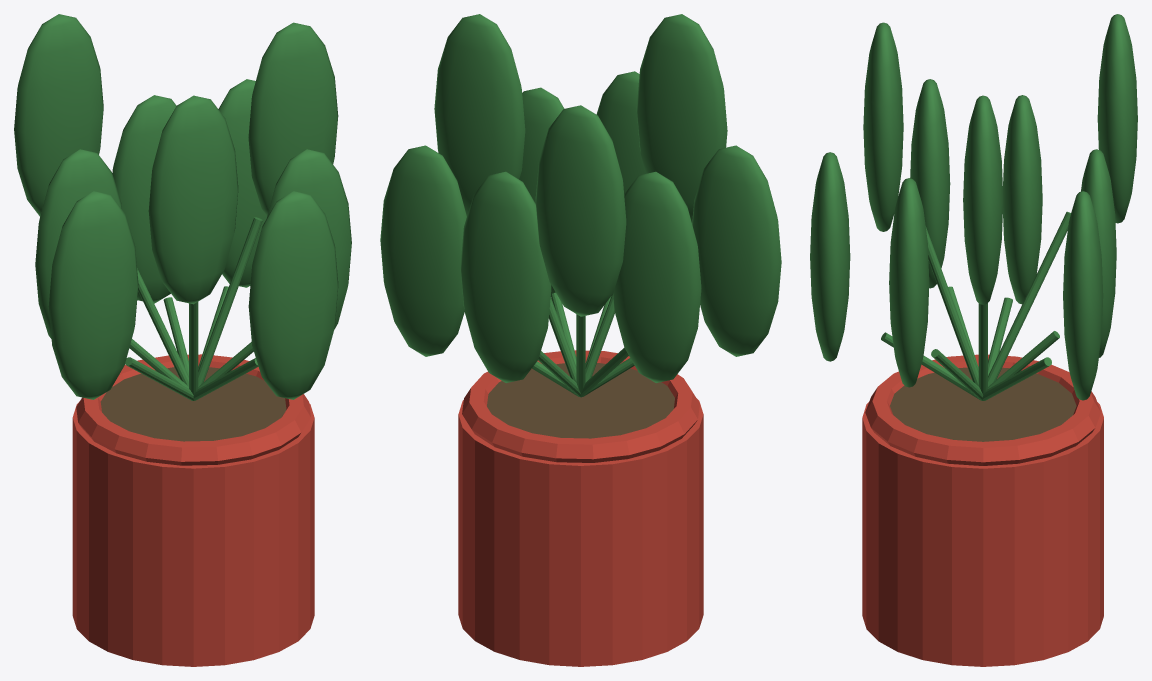
The model's file is potted_plant_red.glb.
3 views of the same model, side by side, from view 1: azimuth 30°, elevation 25°; view 2: azimuth 150°, elevation 25°; view 3: azimuth 270°, elevation 25° (orthographic).
Visible parts, largest first — view 1: planter, broad leaf.005, broad leaf.007, broad leaf.006, broad leaf.003, broad leaf, soil, pot lip, broad leaf.002, broad leaf.004, broad leaf.008, broad leaf.001 (+8 smaller); view 2: planter, broad leaf.003, broad leaf.002, broad leaf.005, broad leaf.001, broad leaf.004, broad leaf, broad leaf.006, soil, pot lip, broad leaf.007, broad leaf.008 (+3 smaller); view 3: planter, soil, pot lip, broad leaf, broad leaf.006, broad leaf.008, broad leaf.007, broad leaf.001, broad leaf.004, broad leaf.003, broad leaf.005, broad leaf.002 (+8 smaller).
Part boxes in pixels (box(x1,y1,x2,y2)): planter: box(72, 401, 314, 666); broad leaf.005: box(48, 191, 138, 399); broad leaf.007: box(248, 191, 338, 399); broad leaf.006: box(148, 95, 238, 304); broad leaf.003: box(14, 14, 103, 216); broad leaf: box(248, 22, 338, 215); soil: box(100, 367, 286, 441); pot lip: box(76, 354, 310, 465); broad leaf.002: box(112, 95, 176, 303); broad leaf.004: box(35, 149, 121, 338); broad leaf.008: box(267, 149, 351, 329); broad leaf.001: box(218, 79, 267, 287); planter: box(458, 399, 703, 666); broad leaf.003: box(535, 105, 626, 316); broad leaf.002: box(460, 171, 551, 382); broad leaf.005: box(692, 145, 781, 356); broad leaf.001: box(380, 145, 466, 356); broad leaf.004: box(613, 171, 701, 382); broad leaf: box(434, 14, 525, 215); broad leaf.006: box(636, 14, 727, 222); soil: box(487, 363, 674, 438); pot lip: box(462, 350, 699, 462); broad leaf.007: box(596, 71, 645, 193); broad leaf.008: box(519, 87, 564, 296); planter: box(862, 402, 1103, 666); soil: box(890, 367, 1076, 441); pot lip: box(865, 354, 1100, 465); broad leaf: box(963, 95, 1003, 304); broad leaf.006: box(863, 22, 903, 231); broad leaf.008: box(889, 178, 929, 387); broad leaf.007: box(810, 152, 850, 361); broad leaf.001: box(1063, 191, 1103, 400); broad leaf.004: box(1003, 95, 1042, 304); broad leaf.003: box(1097, 14, 1137, 223); broad leaf.005: box(910, 79, 950, 288); broad leaf.002: box(1081, 149, 1116, 357).
Bounding box in the file's own units: 0.6405 × 1.09 × 0.5697.
